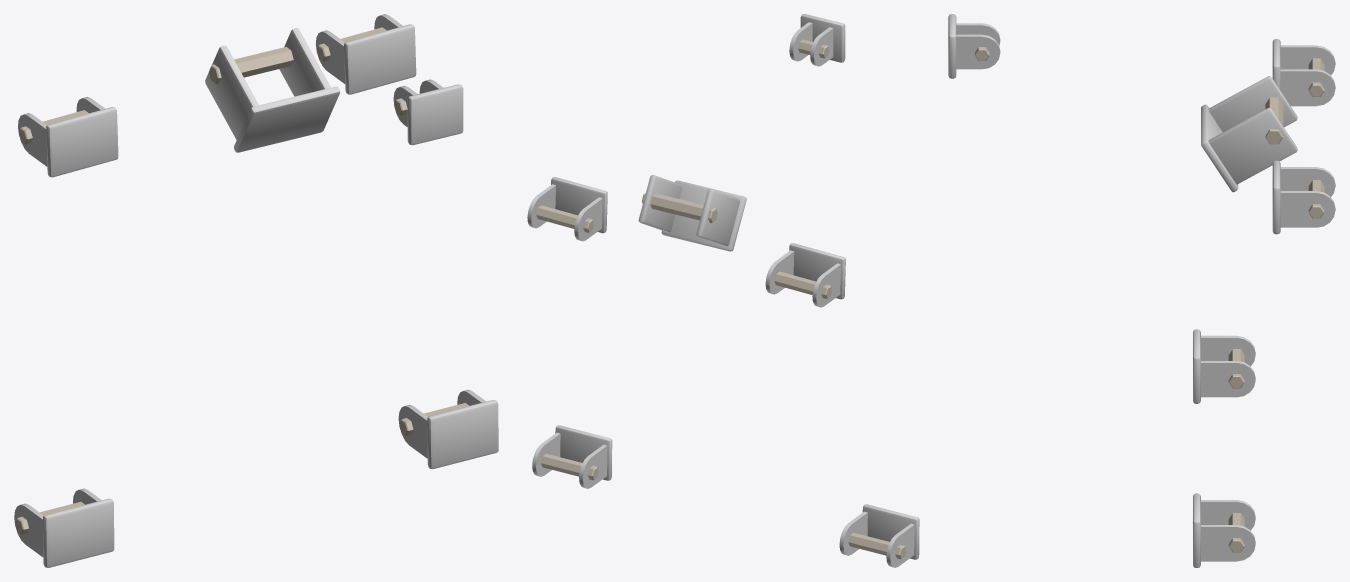
Rendered from SM_Susp_FL_Mounts.fbx.
The picture shows the model from 3 angles, left to right: view 1: azimuth 30°, elevation 25°; view 2: azimuth 150°, elevation 25°; view 3: azimuth 270°, elevation 25°; orthographic projection. The views are drawn at different scales.
Parts seen in each view (by area): view 1: Export_Susp_FL_Mounts; view 2: Export_Susp_FL_Mounts; view 3: Export_Susp_FL_Mounts.
Part boxes in pixels (x1,y1,x2,y2): Export_Susp_FL_Mounts: [14, 14, 498, 567]; Export_Susp_FL_Mounts: [527, 14, 919, 567]; Export_Susp_FL_Mounts: [948, 14, 1335, 567].
Bounding box in the file's own units: 0.388 × 0.4781 × 0.5119.
